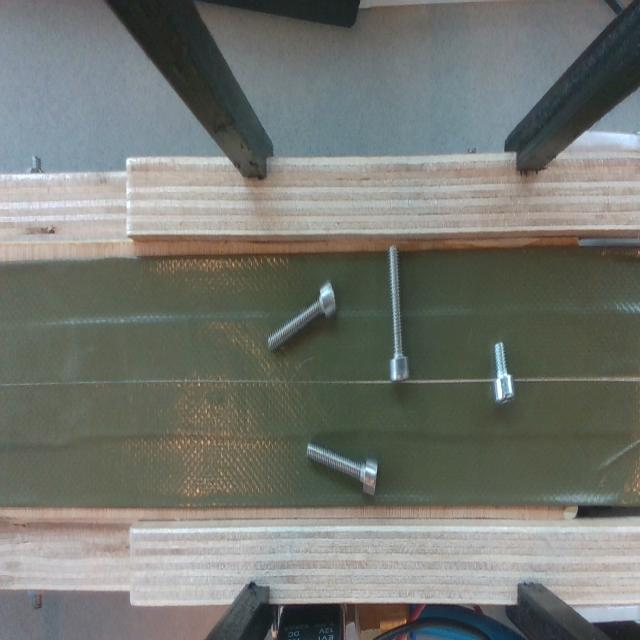Bolt: (268, 281, 336, 351), (306, 442, 378, 494), (389, 245, 409, 382), (492, 343, 515, 403)
